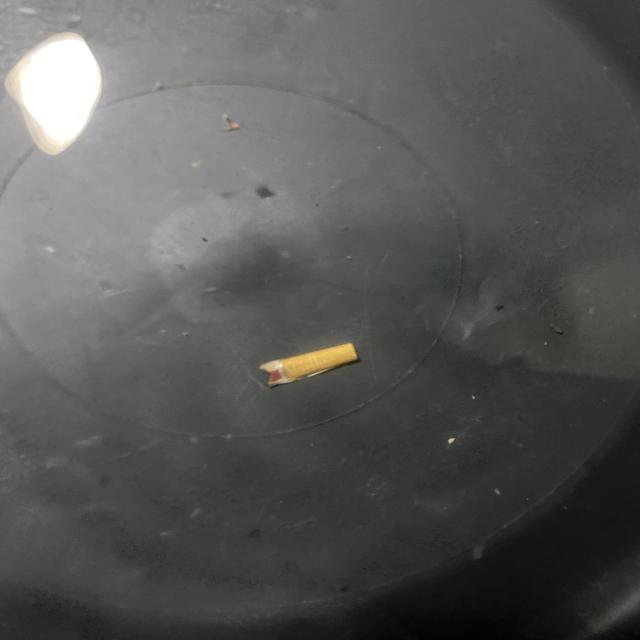Cigarette Filter: (254, 328, 367, 390)
